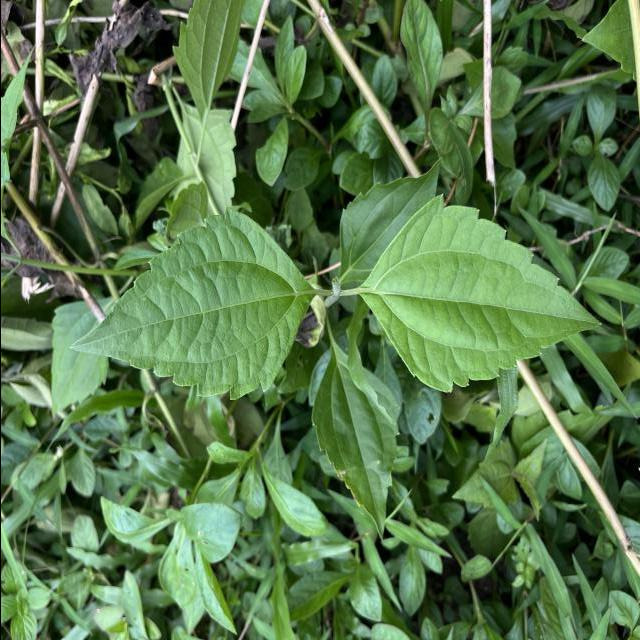Chromolaena odorata: (354, 191, 604, 396), (66, 204, 315, 404)
